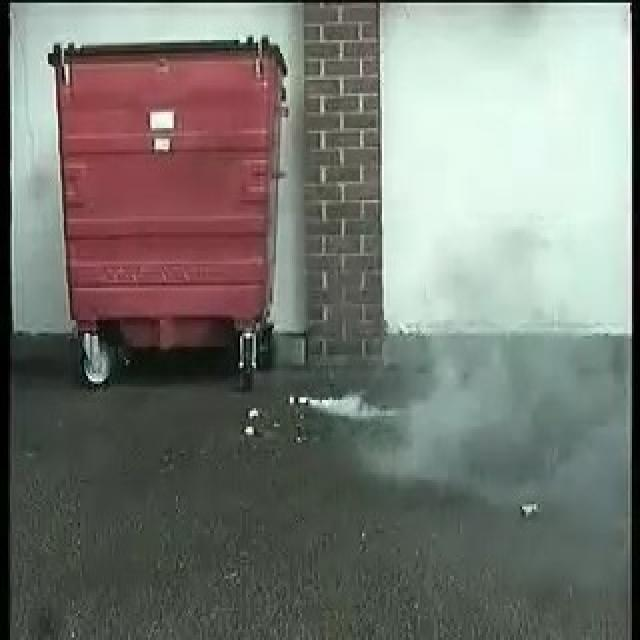smoke: (297, 323, 459, 433)
